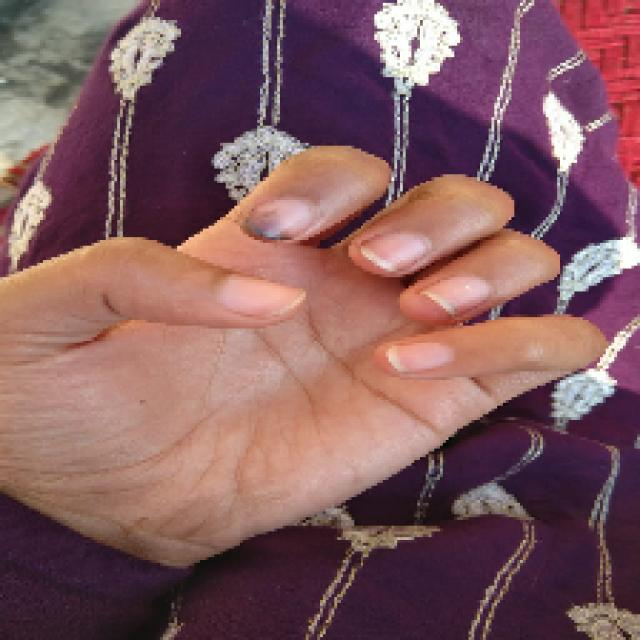Nail: (216, 272, 307, 316), (419, 275, 492, 319), (360, 231, 429, 271), (246, 198, 310, 239), (386, 342, 454, 374)
